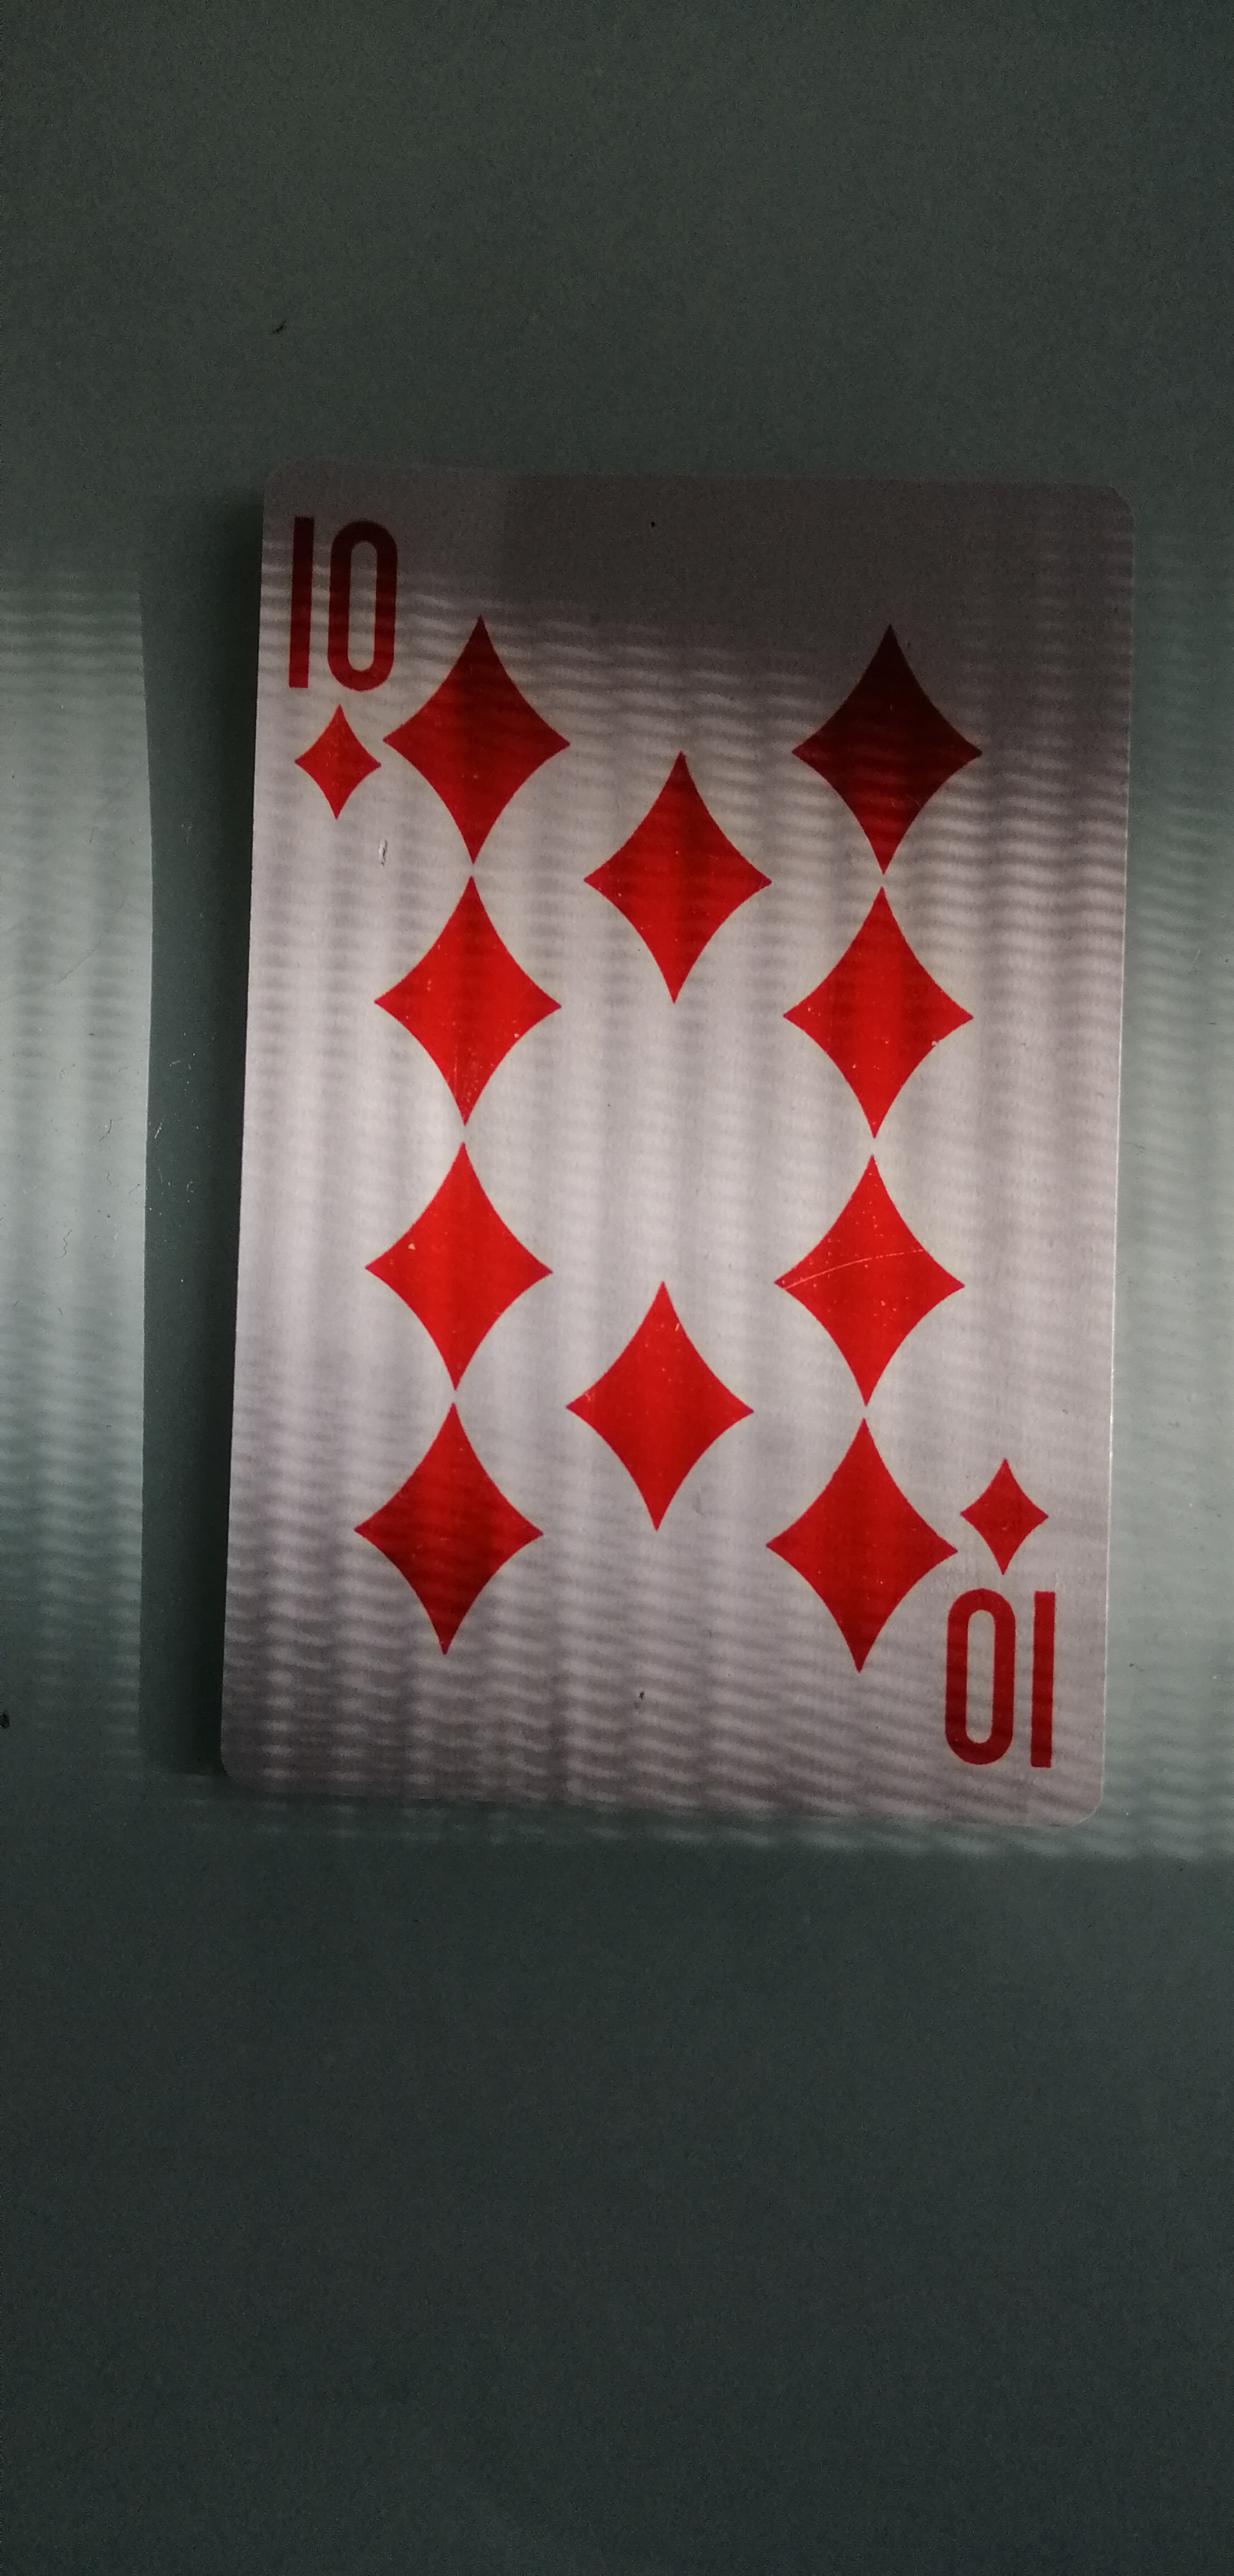ten: (202, 417, 1147, 1848)
